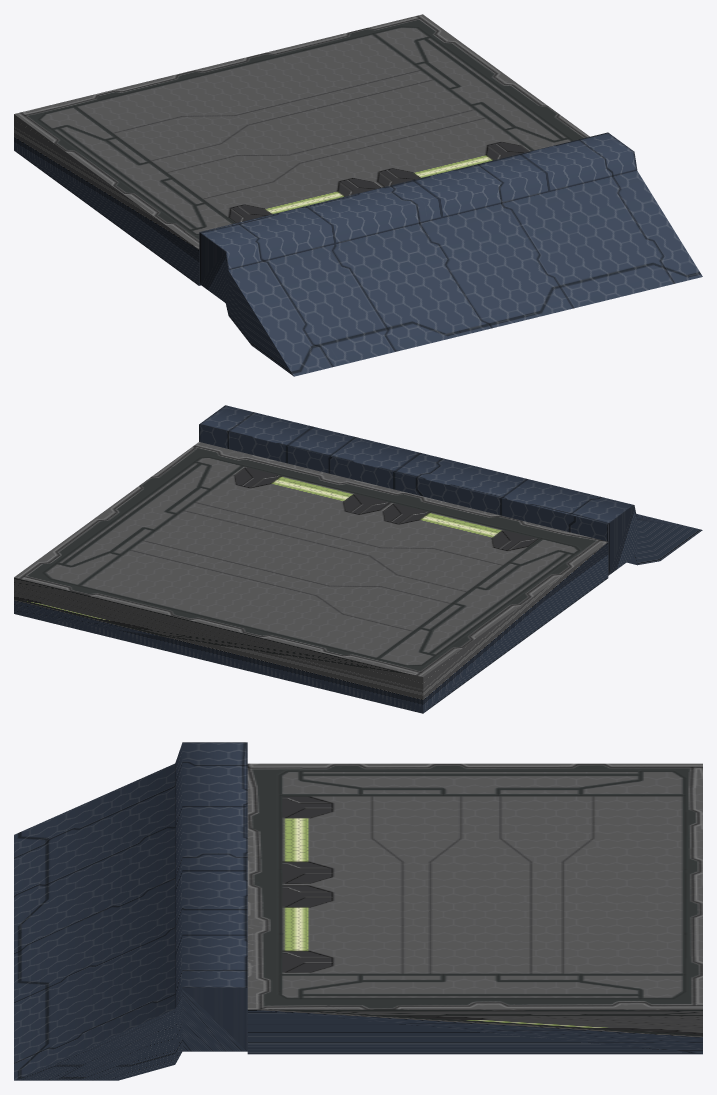
File: Floor 01.fbx
The picture shows the model from 3 angles, top to bottom: view 1: azimuth 30°, elevation 25°; view 2: azimuth 150°, elevation 25°; view 3: azimuth 270°, elevation 25°; orthographic projection. The views are drawn at different scales.
Parts seen in each view (by area): view 1: Floor 01; view 2: Floor 01; view 3: Floor 01.
Boxes of the visible parts, x1,y1,x2,y2 form: Floor 01: (14, 14, 702, 376); Floor 01: (14, 405, 702, 713); Floor 01: (14, 742, 702, 1080).
Size of the model in its own units: 402 by 70.52 by 477.
